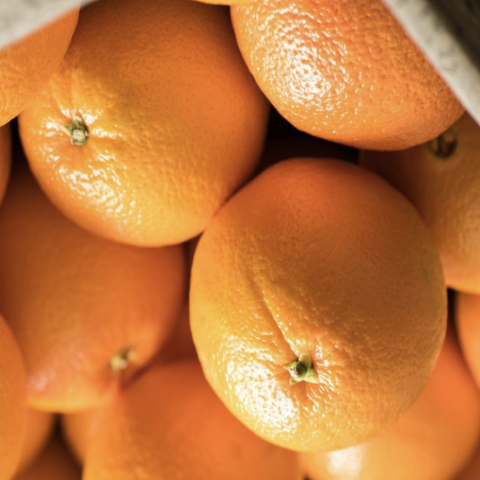orange: (174, 146, 456, 479), (0, 0, 281, 275)
